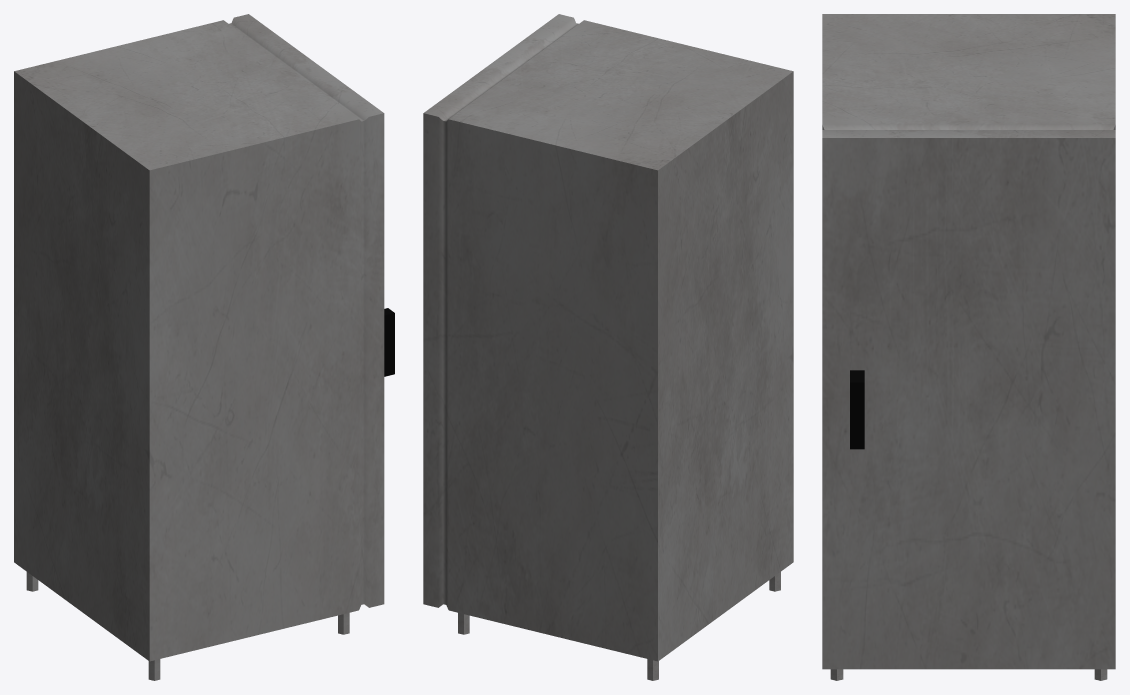
Rendered from cantina-fridge.fbx.
3 views of the same model, side by side, from view 1: azimuth 30°, elevation 25°; view 2: azimuth 150°, elevation 25°; view 3: azimuth 270°, elevation 25° (orthographic). The views are drawn at different scales.
Visible parts, largest first — view 1: fridge1, handle; view 2: fridge1; view 3: fridge1, handle.
Boxes of the visible parts, x1,y1,x2,y2 form: fridge1: (14,14,384,661); handle: (384,308,394,376); fridge1: (423,14,793,661); fridge1: (822,14,1115,669); handle: (850,376,864,449).
Size of the model in its own units: 220 by 420 by 200.
